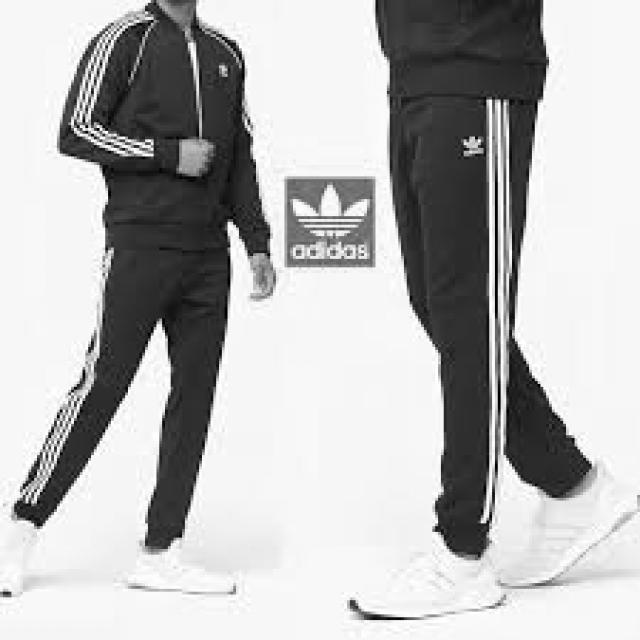Adidas: (285, 176, 382, 244), (461, 128, 486, 151)
